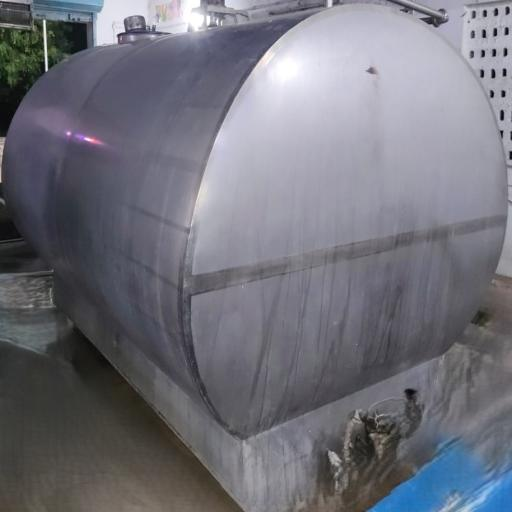silo: (2, 2, 510, 511)
